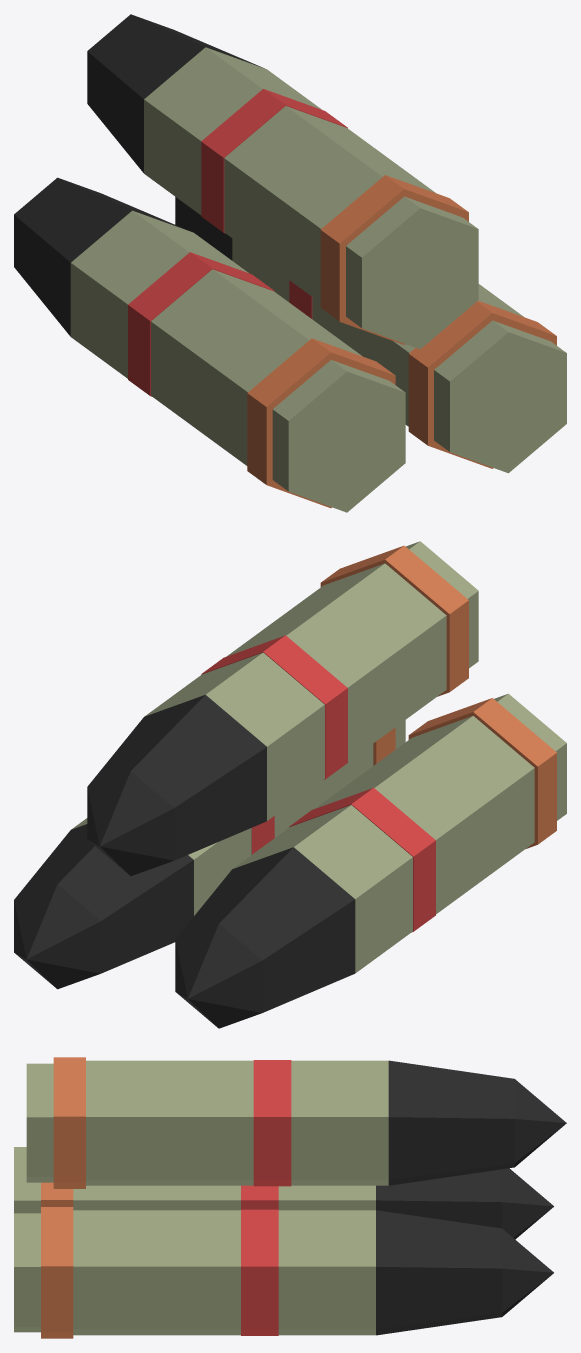
Rendered from ce_ammo_artillery_ab_b.obj.
3 views of the same model, one above another, from view 1: azimuth 30°, elevation 25°; view 2: azimuth 150°, elevation 25°; view 3: azimuth 270°, elevation 25° (orthographic). The views are drawn at different scales.
Visible parts, largest first — view 1: ce_ammo_artillery_ab_b_16, ce_ammo_artillery_ab_b_2, ce_ammo_artillery_ab_b_0, ce_ammo_artillery_ab_b_7, ce_ammo_artillery_ab_b_14, ce_ammo_artillery_ab_b_18, ce_ammo_artillery_ab_b_4, ce_ammo_artillery_ab_b_5, ce_ammo_artillery_ab_b_19, ce_ammo_artillery_ab_b_1, ce_ammo_artillery_ab_b_15, ce_ammo_artillery_ab_b_8 (+5 smaller); view 2: ce_ammo_artillery_ab_b_16, ce_ammo_artillery_ab_b_2, ce_ammo_artillery_ab_b_5, ce_ammo_artillery_ab_b_19, ce_ammo_artillery_ab_b_12, ce_ammo_artillery_ab_b_18, ce_ammo_artillery_ab_b_4, ce_ammo_artillery_ab_b_6, ce_ammo_artillery_ab_b_20, ce_ammo_artillery_ab_b_13, ce_ammo_artillery_ab_b_1, ce_ammo_artillery_ab_b_15 (+6 smaller); view 3: ce_ammo_artillery_ab_b_9, ce_ammo_artillery_ab_b_16, ce_ammo_artillery_ab_b_19, ce_ammo_artillery_ab_b_12, ce_ammo_artillery_ab_b_18, ce_ammo_artillery_ab_b_11, ce_ammo_artillery_ab_b_5, ce_ammo_artillery_ab_b_17, ce_ammo_artillery_ab_b_10, ce_ammo_artillery_ab_b_8, ce_ammo_artillery_ab_b_15, ce_ammo_artillery_ab_b_2 (+9 smaller).
Boxes of the visible parts, x1,y1,x2,y2 form: ce_ammo_artillery_ab_b_16: (224, 106, 435, 302); ce_ammo_artillery_ab_b_2: (151, 269, 362, 465); ce_ammo_artillery_ab_b_0: (272, 360, 405, 512); ce_ammo_artillery_ab_b_7: (434, 320, 566, 473); ce_ammo_artillery_ab_b_14: (346, 196, 478, 349); ce_ammo_artillery_ab_b_18: (144, 47, 321, 215); ce_ammo_artillery_ab_b_4: (70, 210, 248, 378); ce_ammo_artillery_ab_b_5: (14, 177, 190, 336); ce_ammo_artillery_ab_b_19: (87, 14, 264, 172); ce_ammo_artillery_ab_b_1: (247, 338, 395, 508); ce_ammo_artillery_ab_b_15: (320, 175, 468, 344); ce_ammo_artillery_ab_b_8: (408, 300, 556, 468); ce_ammo_artillery_ab_b_16: (227, 563, 446, 761); ce_ammo_artillery_ab_b_2: (315, 716, 534, 914); ce_ammo_artillery_ab_b_5: (176, 847, 355, 1012); ce_ammo_artillery_ab_b_19: (88, 695, 266, 860); ce_ammo_artillery_ab_b_12: (14, 824, 193, 973); ce_ammo_artillery_ab_b_18: (145, 652, 324, 820); ce_ammo_artillery_ab_b_4: (233, 805, 412, 973); ce_ammo_artillery_ab_b_6: (175, 923, 262, 1028); ce_ammo_artillery_ab_b_20: (87, 771, 174, 875); ce_ammo_artillery_ab_b_13: (14, 884, 100, 989); ce_ammo_artillery_ab_b_1: (408, 698, 556, 848); ce_ammo_artillery_ab_b_15: (320, 545, 468, 696); ce_ammo_artillery_ab_b_9: (73, 1210, 240, 1335); ce_ammo_artillery_ab_b_16: (86, 1060, 253, 1185); ce_ammo_artillery_ab_b_19: (388, 1060, 514, 1185); ce_ammo_artillery_ab_b_12: (376, 1210, 502, 1335); ce_ammo_artillery_ab_b_18: (291, 1060, 388, 1185); ce_ammo_artillery_ab_b_11: (278, 1210, 375, 1335); ce_ammo_artillery_ab_b_5: (376, 1169, 502, 1228); ce_ammo_artillery_ab_b_17: (253, 1060, 291, 1186); ce_ammo_artillery_ab_b_10: (241, 1209, 278, 1335); ce_ammo_artillery_ab_b_8: (41, 1207, 73, 1338); ce_ammo_artillery_ab_b_15: (53, 1057, 85, 1188); ce_ammo_artillery_ab_b_2: (73, 1185, 240, 1210).
Bounding box in the file's own units: 0.45 × 0.4355 × 0.88.
